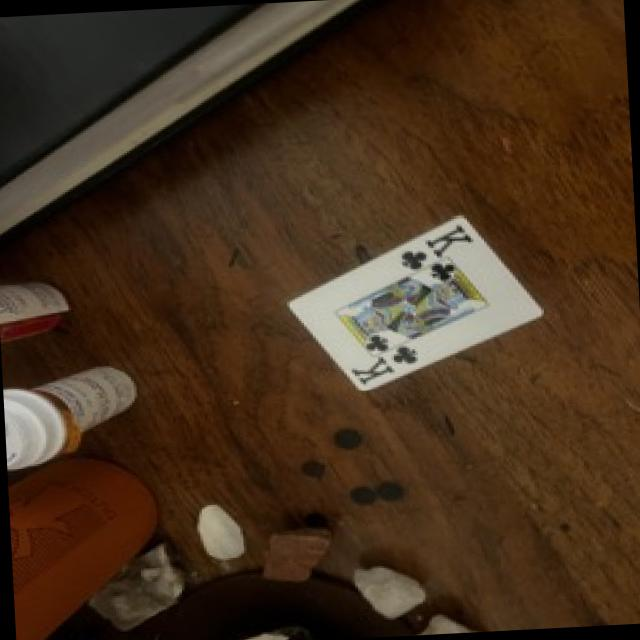King of clubs: (289, 215, 543, 390)
